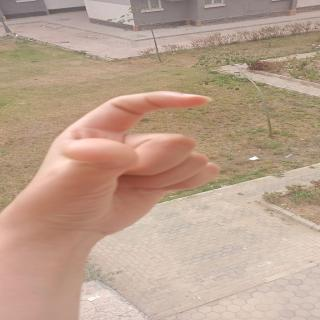DELL: (39, 77, 259, 215)
